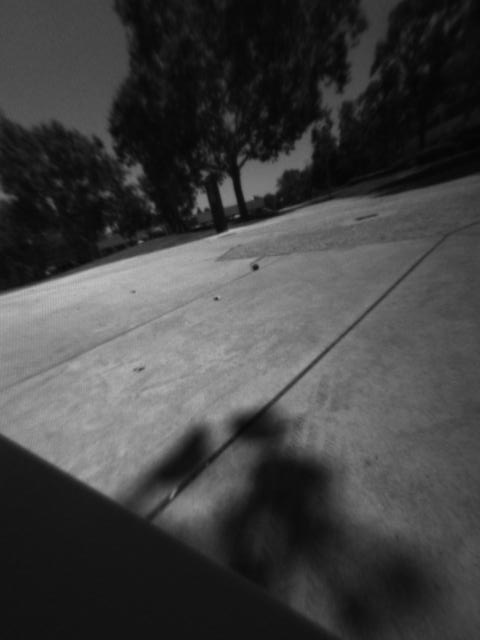dogtoy: (242, 256, 272, 279)
